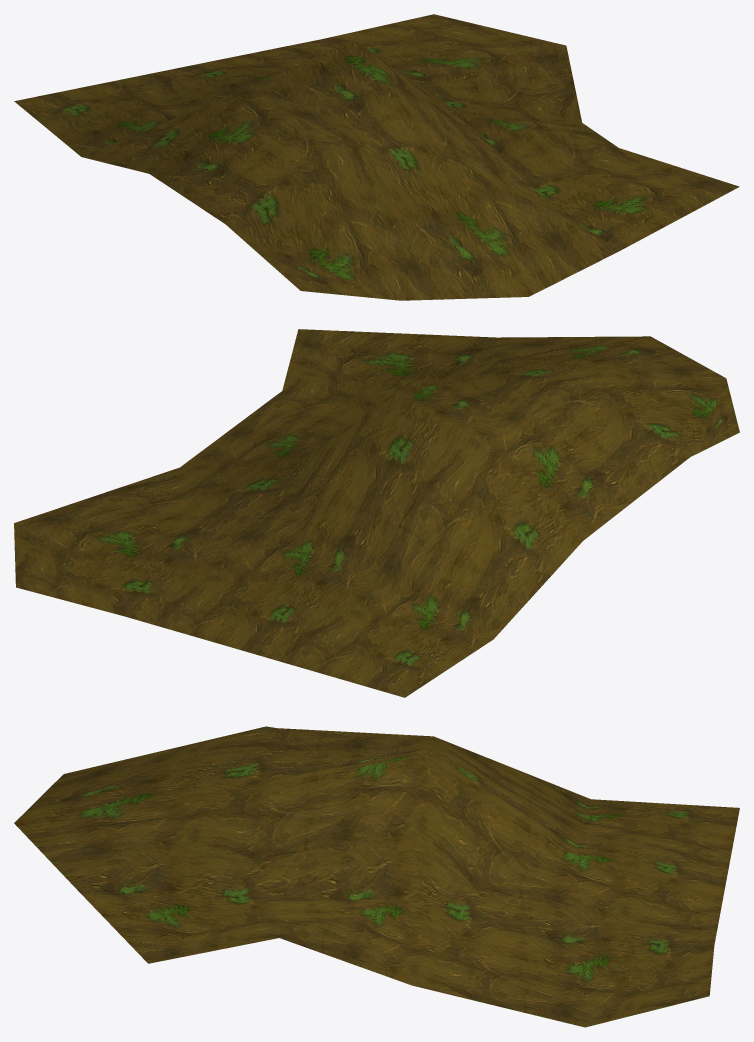
Rendered from MIRKWOOD_AREA4_BARRIER.fbx.
The picture shows the model from 3 angles, top to bottom: view 1: azimuth 30°, elevation 25°; view 2: azimuth 150°, elevation 25°; view 3: azimuth 270°, elevation 25°; orthographic projection. The views are drawn at different scales.
Visible parts, largest first — view 1: MIRKWOOD_AREA4_BARRIER; view 2: MIRKWOOD_AREA4_BARRIER; view 3: MIRKWOOD_AREA4_BARRIER.
Part boxes in pixels (x1,y1,x2,y2): MIRKWOOD_AREA4_BARRIER: [14, 14, 739, 300]; MIRKWOOD_AREA4_BARRIER: [14, 329, 739, 697]; MIRKWOOD_AREA4_BARRIER: [14, 726, 739, 1027].
Bounding box in the file's own units: 496021 × 130193 × 643003.
Materials: 1 (1 with a texture image).
